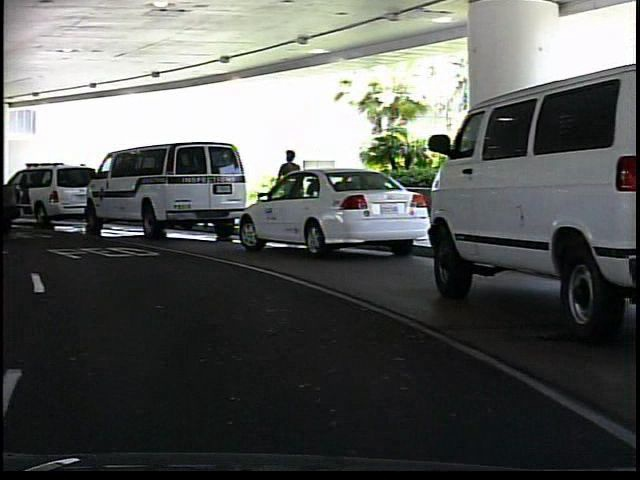person: (273, 144, 304, 229)
